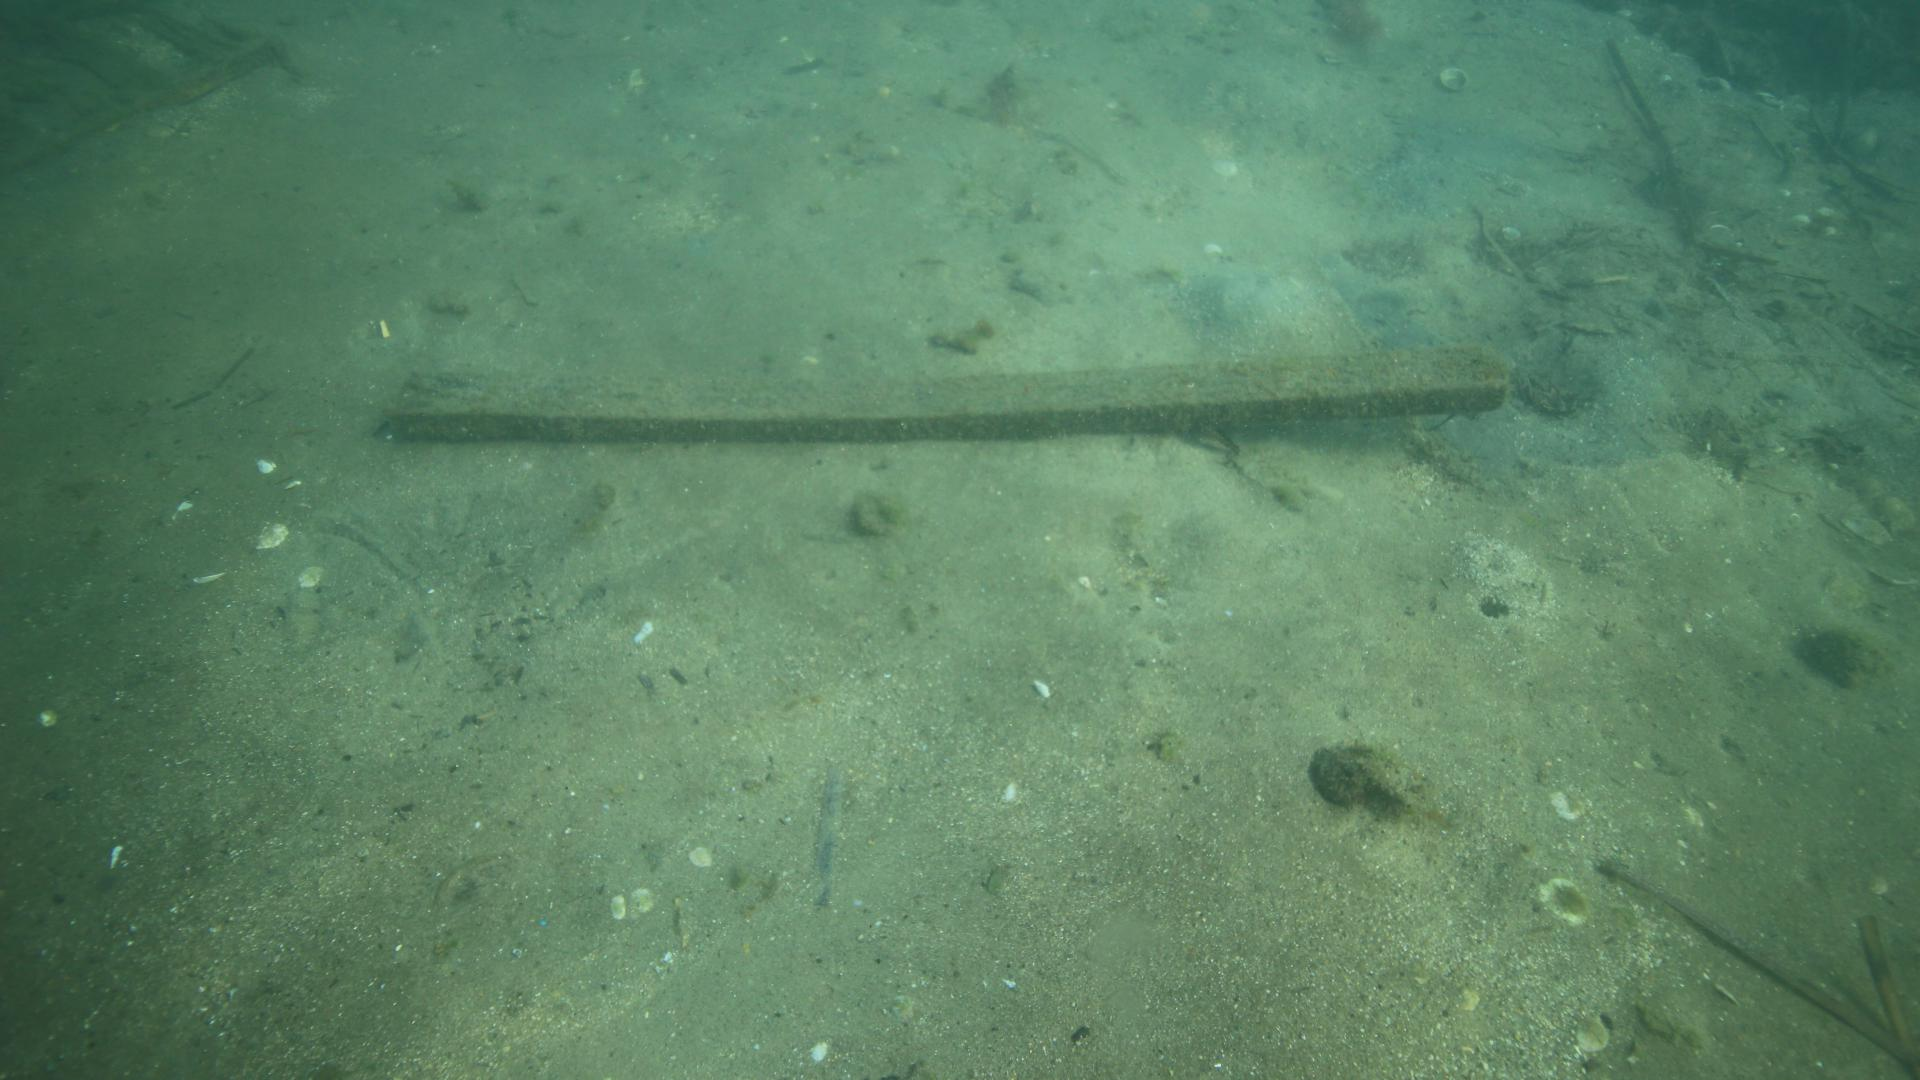wood: (388, 347, 1507, 435)
